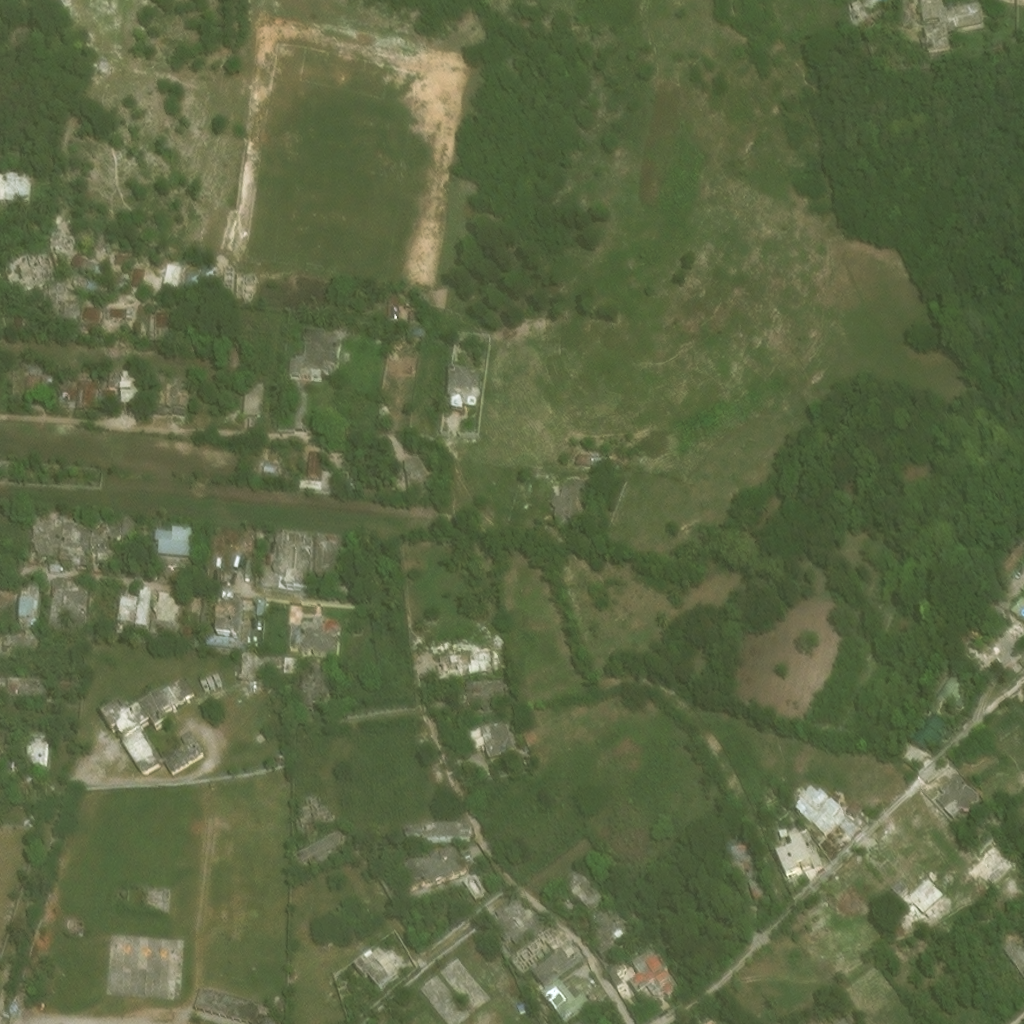destroyed: (17, 255, 49, 288), (55, 238, 76, 262)
major_damage: (251, 528, 316, 587), (441, 961, 492, 1014), (419, 977, 472, 1023), (28, 516, 65, 568), (60, 524, 94, 571), (63, 514, 77, 525)
minor_damage: (104, 680, 197, 776), (922, 0, 995, 69), (397, 850, 470, 899), (192, 984, 276, 1023), (730, 849, 775, 918), (496, 900, 552, 949), (629, 955, 677, 1011), (778, 832, 825, 888), (288, 326, 339, 377), (355, 954, 406, 1001), (535, 947, 584, 993), (293, 827, 348, 866), (288, 614, 340, 654), (941, 785, 986, 830), (89, 517, 124, 574), (544, 985, 595, 1023), (587, 909, 628, 954), (217, 594, 257, 640), (167, 729, 206, 775), (402, 830, 476, 853), (563, 976, 611, 1009), (566, 871, 603, 912), (558, 491, 592, 535), (315, 532, 346, 578), (486, 730, 521, 770), (468, 686, 509, 720), (451, 372, 481, 412), (301, 666, 330, 707), (159, 382, 191, 416), (67, 588, 90, 633), (6, 682, 50, 703), (808, 993, 840, 1021), (98, 373, 123, 408), (117, 377, 139, 416), (460, 879, 490, 907), (51, 580, 66, 635), (155, 546, 194, 566), (244, 383, 266, 418), (76, 380, 99, 413), (850, 3, 874, 34), (118, 601, 141, 632), (306, 451, 326, 482), (17, 610, 43, 632), (149, 619, 178, 638), (469, 733, 490, 759), (9, 637, 37, 656), (207, 639, 241, 654), (321, 474, 346, 494), (405, 457, 425, 481), (18, 595, 44, 613), (892, 883, 911, 903), (155, 528, 175, 547), (124, 519, 139, 544), (522, 757, 539, 777), (263, 462, 282, 479), (175, 532, 195, 548), (180, 625, 195, 645), (82, 305, 99, 322), (580, 465, 599, 479), (153, 312, 167, 330), (133, 317, 144, 338), (281, 654, 295, 670), (262, 652, 280, 664), (63, 305, 74, 321), (871, 0, 890, 9), (274, 750, 288, 762), (68, 386, 78, 402), (927, 767, 938, 778), (101, 68, 113, 77)
no_damage: (983, 538, 1023, 615), (919, 729, 953, 766), (945, 683, 974, 719), (10, 363, 24, 401), (385, 288, 404, 315), (25, 365, 41, 393), (7, 312, 26, 333), (71, 255, 90, 274), (110, 305, 133, 320), (86, 258, 102, 279), (132, 270, 148, 289), (42, 374, 57, 393), (405, 300, 417, 315), (115, 258, 125, 266)
unclassified: (1014, 607, 1023, 625)
